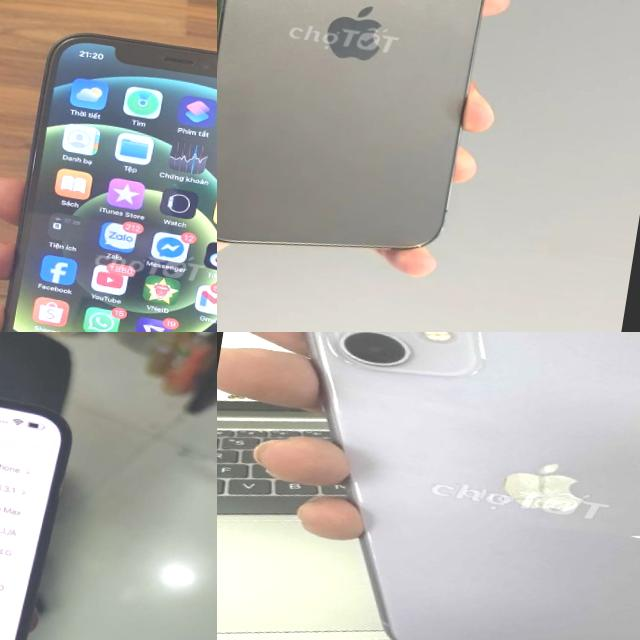gen_11: (230, 332, 640, 640)
gen_12_13: (217, 0, 518, 284), (0, 11, 217, 332), (0, 344, 86, 640)
